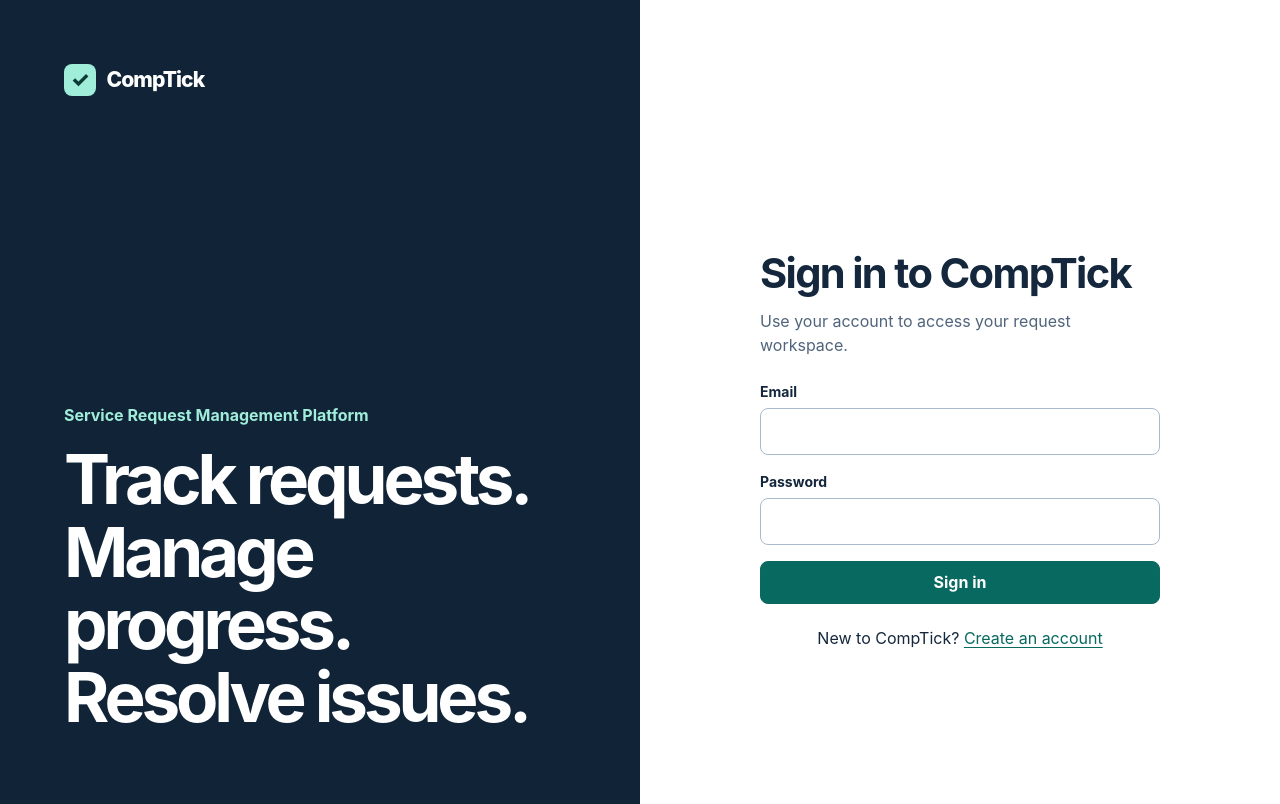
Test: pages through requests and scopes search to the current page
In the field labelled "Email": (960, 432) x1=760 y1=408 x2=1160 y2=455, type "member@example.com"
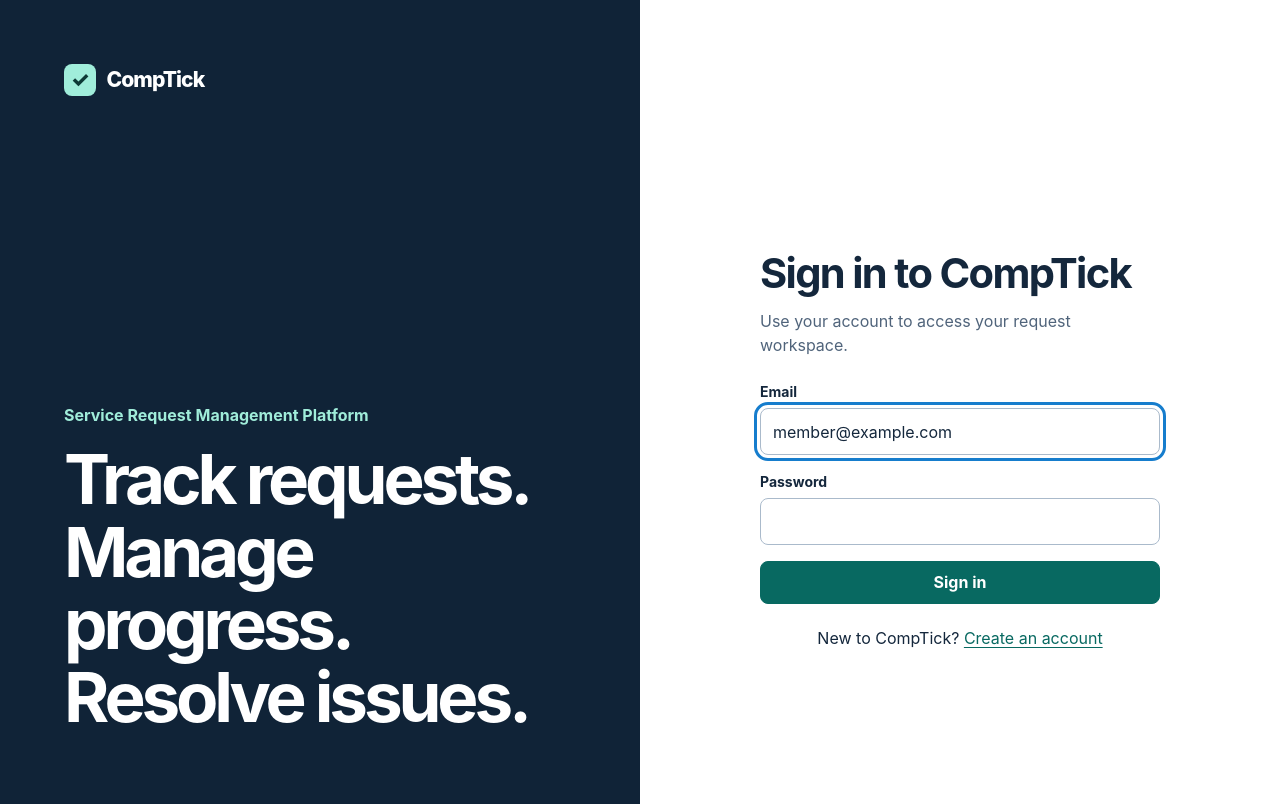
In the password field labelled "Password": (960, 522) x1=760 y1=498 x2=1160 y2=545, type "testing-password"
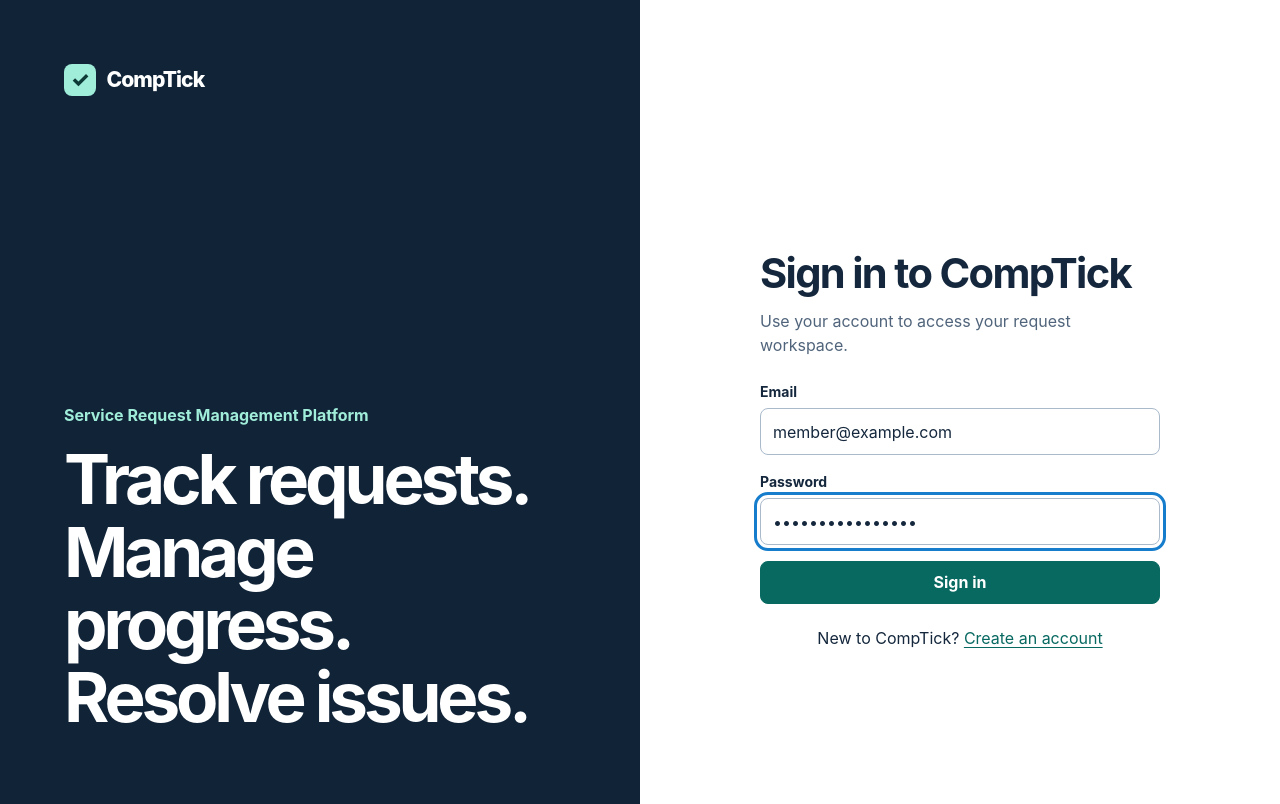
Click the button "Sign in": (960, 582) x1=760 y1=561 x2=1160 y2=604
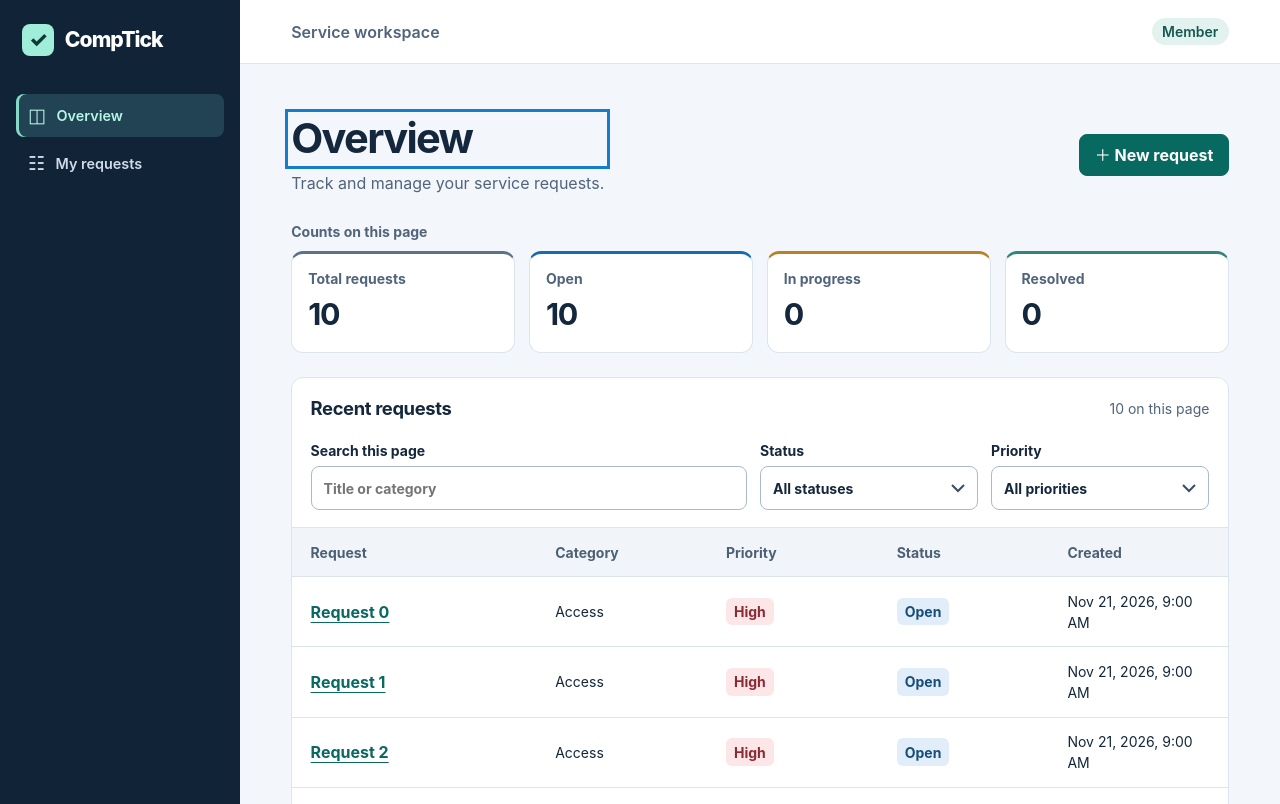
Check: the heading "Overview" is shown, box x1=291 y1=113 x2=472 y2=163
Check: the button "Request 0" is shown, box x1=311 y1=600 x2=389 y2=624
In the search field labelled "Search this page": (529, 488) x1=311 y1=466 x2=747 y2=510, type "Other page"
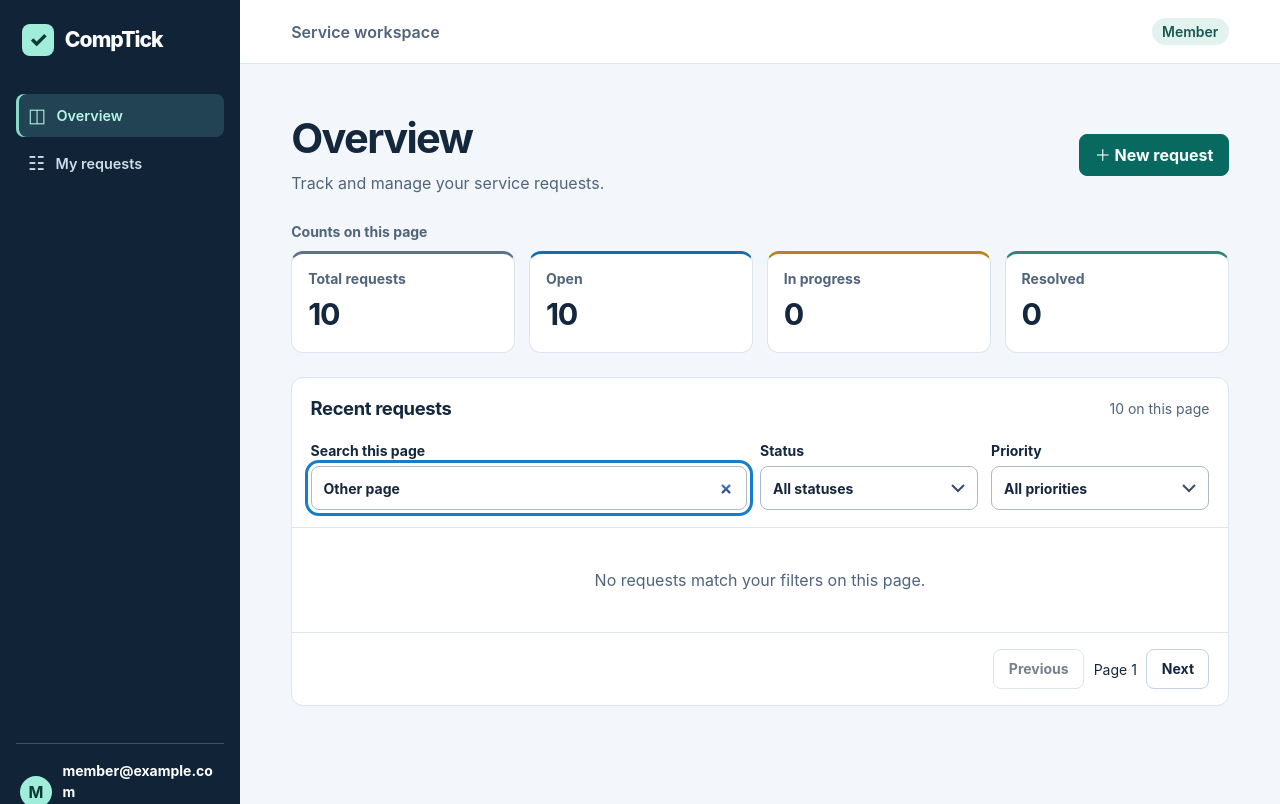
Check: the text "No requests match your filters on this page." is shown, box x1=292 y1=527 x2=1228 y2=632
Click the button "Next": (1178, 669) x1=1146 y1=649 x2=1210 y2=689
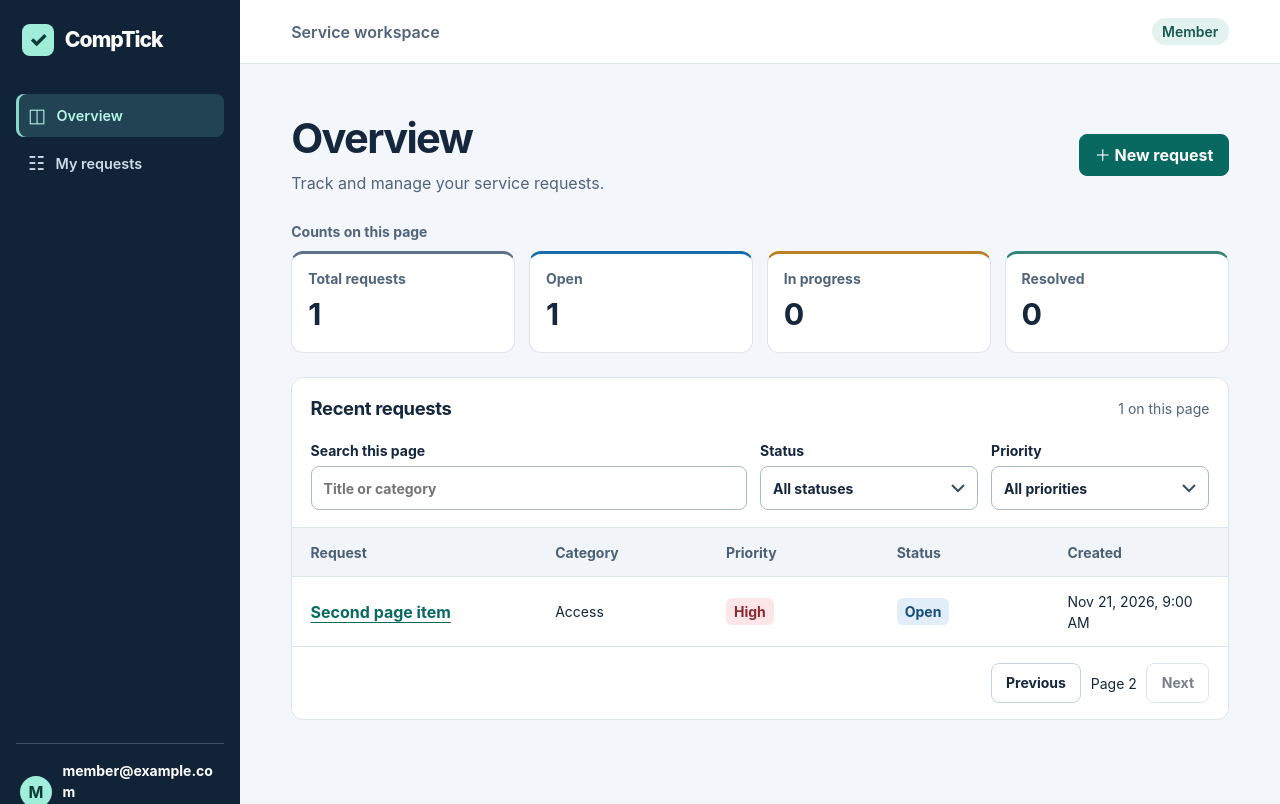
Check: the button "Second page item" is shown, box x1=311 y1=600 x2=451 y2=624
Check: the button "Next" is disabled, box x1=1146 y1=663 x2=1210 y2=703
